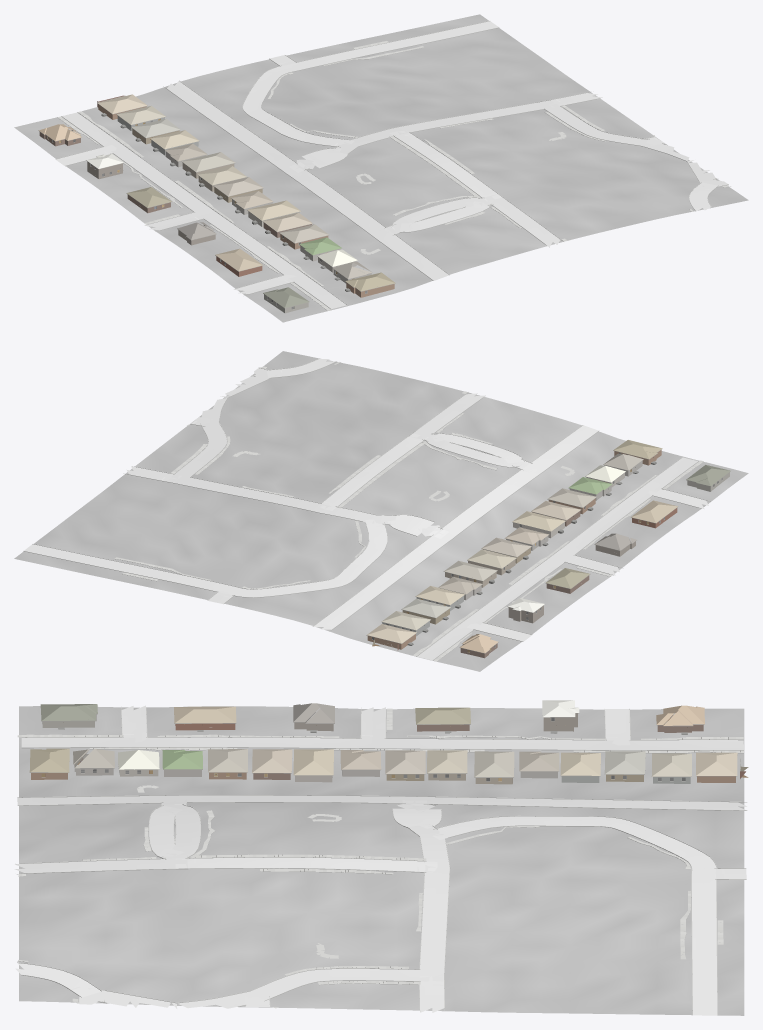
3 views of the same model, one above another, from view 1: azimuth 30°, elevation 25°; view 2: azimuth 150°, elevation 25°; view 3: azimuth 270°, elevation 25° (orthographic). The views are drawn at different scales.
Parts seen in each view (by area): view 1: ground, concrete, roof, curb, walk, wall, detail, wall_stucco, wall_stone; view 2: ground, concrete, roof, curb, walk, wall, detail, wall_stucco, wall_stone; view 3: ground, concrete, roof, curb, walk, wall, wall_stucco, detail, wall_stone.
Part boxes in pixels (x1,y1,x2,y2): ground: (14,14,748,322); concrete: (56,21,727,308); roof: (39,94,395,307); curb: (55,21,730,309); walk: (57,41,728,310); wall: (39,95,394,297); detail: (38,95,395,309); wall_stucco: (117,116,356,313); wall_stone: (165,152,371,283); ground: (14,351,748,671); concrete: (24,359,708,660); roof: (367,440,730,653); curb: (23,359,710,660); walk: (114,362,703,661); wall: (367,450,677,658); detail: (366,449,730,653); wall_stucco: (382,472,729,636); wall_stone: (464,461,642,600); ground: (19,706,744,1015); concrete: (14,705,746,1015); roof: (29,700,737,777); curb: (15,706,747,1015); walk: (17,708,743,1008); wall: (31,713,745,784); wall_stucco: (42,714,690,783); detail: (29,713,740,781); wall_stone: (74,765,557,778).
Size of the model in its own units: 254 by 9.55 by 253.
